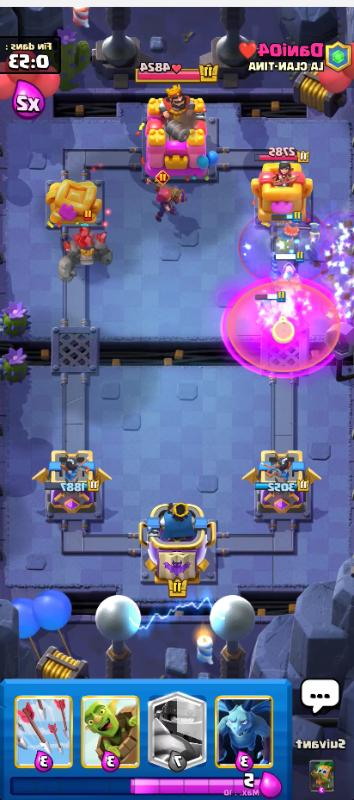valkyrie: (270, 214, 305, 251)
